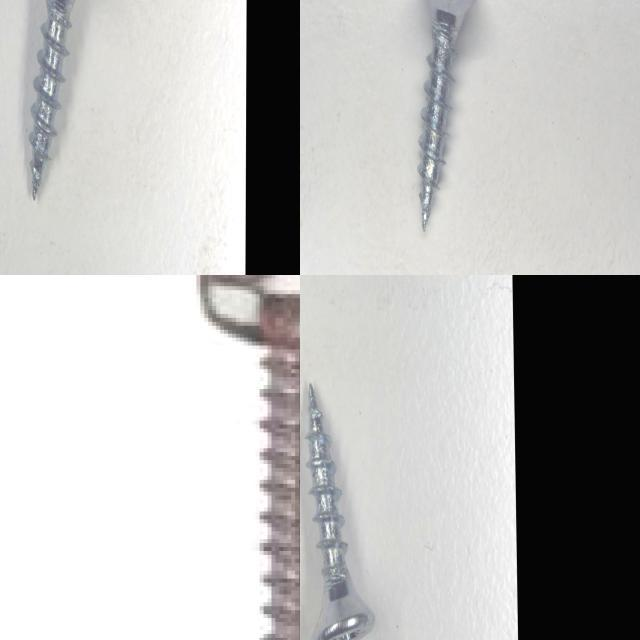Screw: (203, 275, 300, 640), (307, 383, 375, 640), (418, 0, 475, 228), (29, 0, 75, 199)
